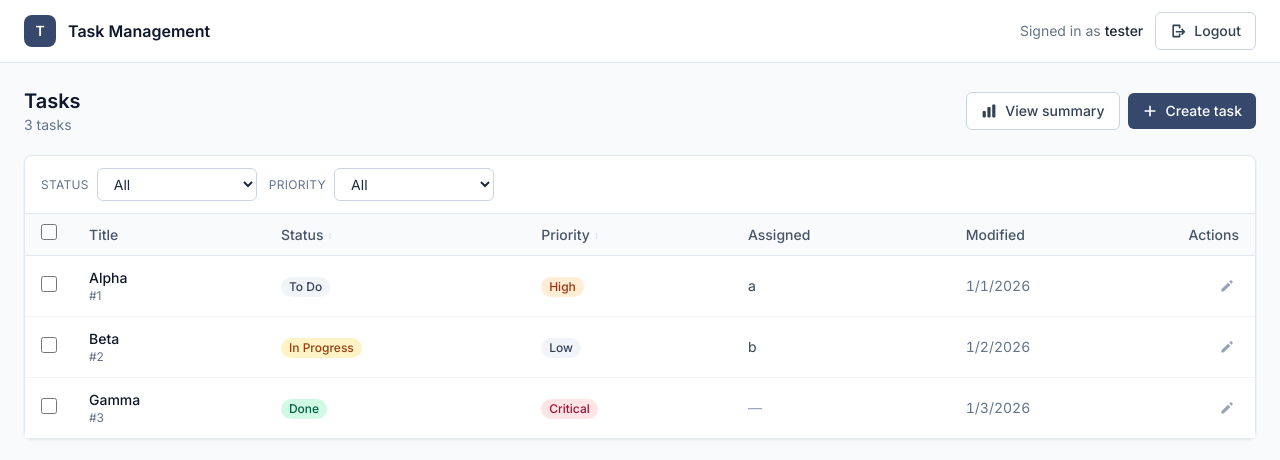
Test: <TasksPage /> integration › bulk-deletes selected rows after user confirms (then refetches)
The width and height of the screenshot is (1280, 460).
Expected: the button "Alpha" is shown, [89,268,128,288]
Step 1. Click the checkbox named "Select task 1" → (49, 284), box [41,276,57,292]
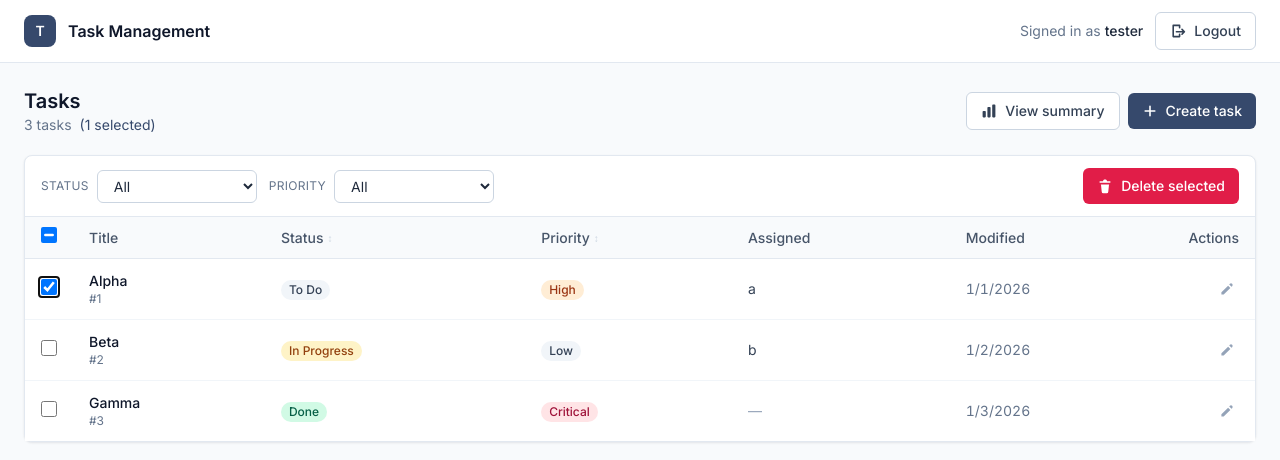
Step 2. Click the checkbox named "Select task 2" → (49, 348), box [41,340,57,356]
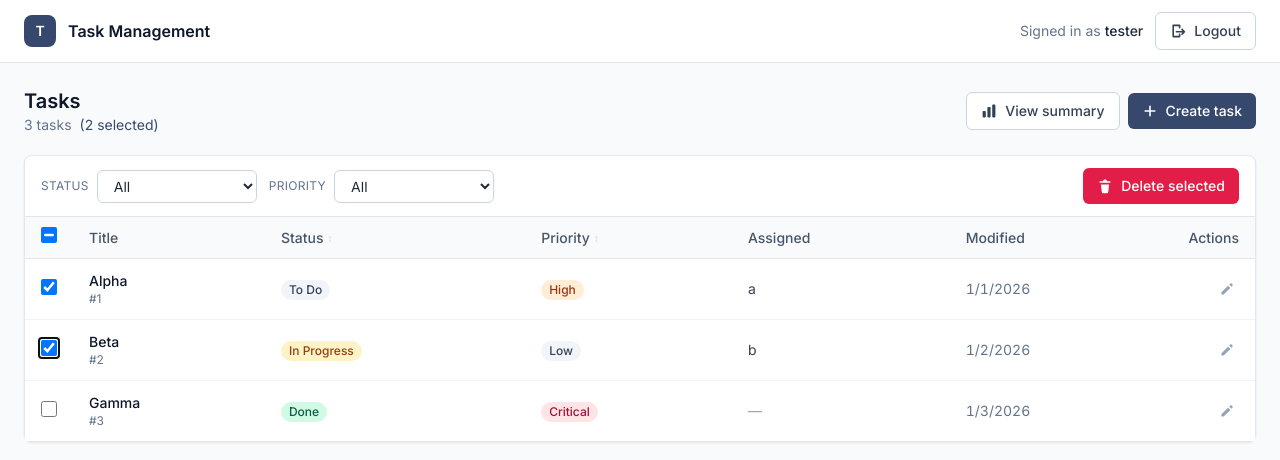
Step 3. Click the button "Delete selected" → (1161, 186), box [1083,168,1239,204]
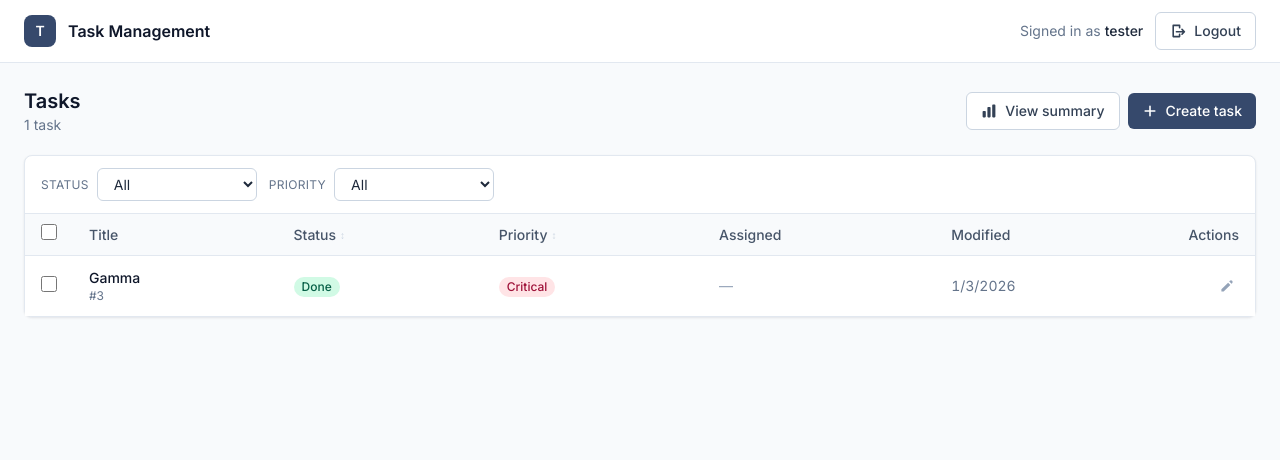
Expected: the button "Gamma" is shown, [89,268,140,288]
Result: the button "Alpha" is gone
Result: the button "Beta" is gone
